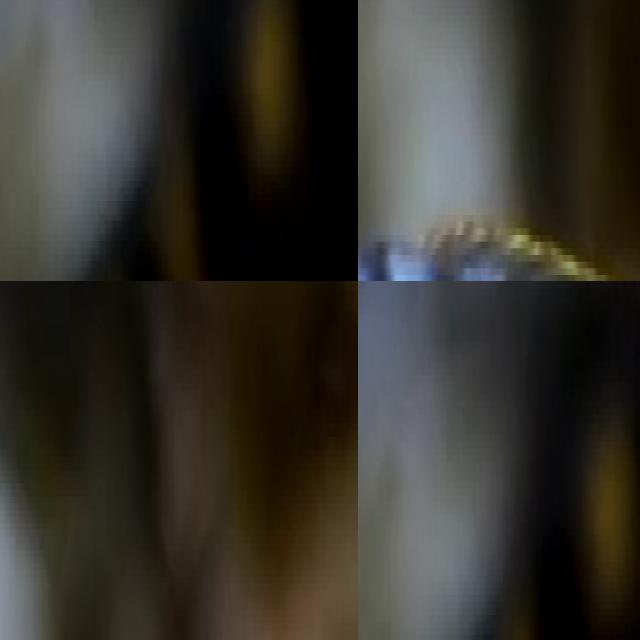fish: (0, 0, 358, 281), (0, 281, 177, 640)
